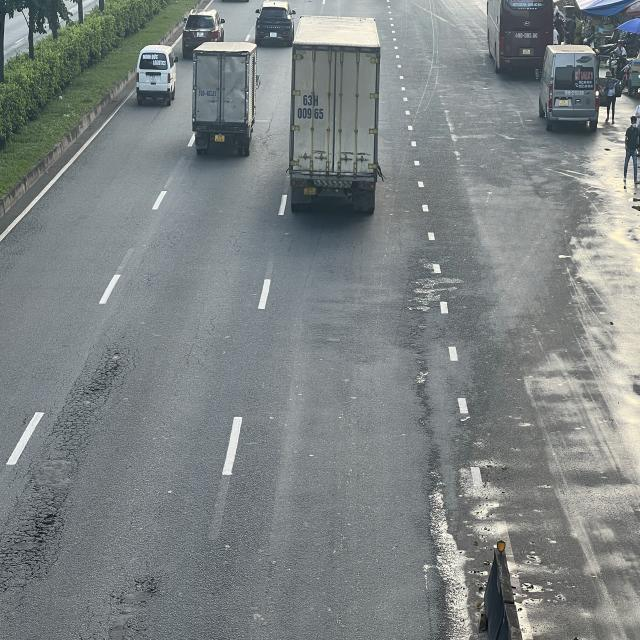car: (255, 0, 298, 45)
coach: (484, 0, 553, 73)
truck: (289, 17, 380, 215), (192, 41, 260, 156)
van: (540, 43, 614, 131), (135, 44, 177, 104)
